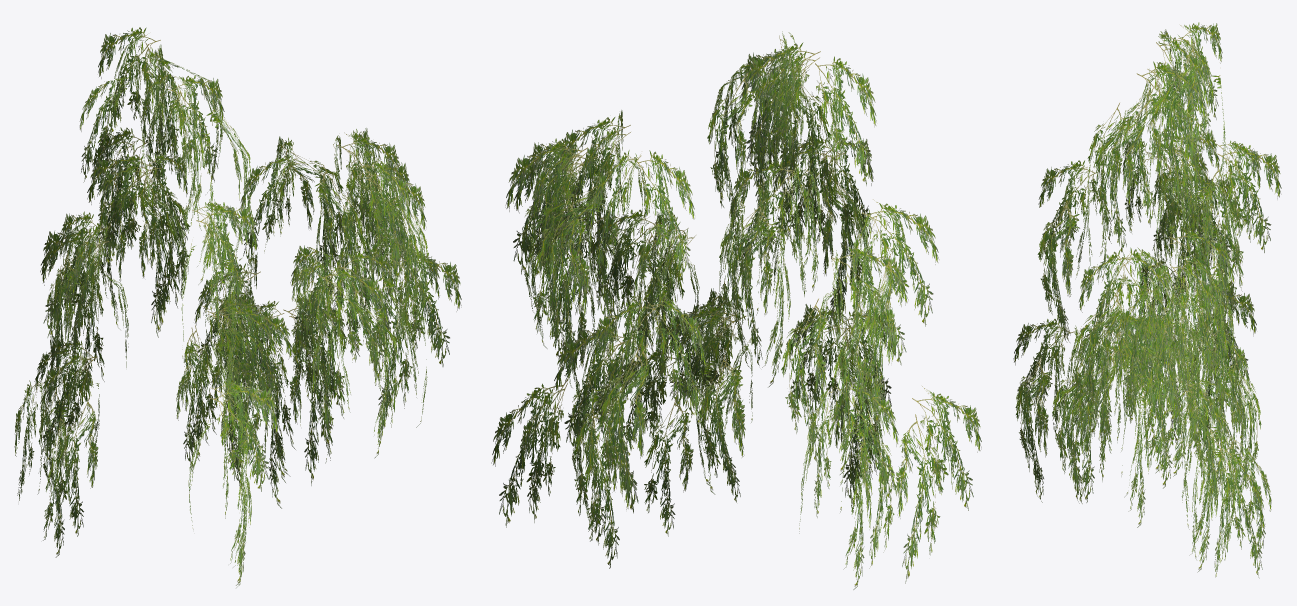
Rendered from willow leaves.fbx.
3 views of the same model, side by side, from view 1: azimuth 30°, elevation 25°; view 2: azimuth 150°, elevation 25°; view 3: azimuth 270°, elevation 25° (orthographic). The views are drawn at different scales.
Visible parts, largest first — view 1: branch09_1; view 2: branch09_1; view 3: branch09_1.
Boxes of the visible parts, x1,y1,x2,y2 form: branch09_1: (14,27,461,587); branch09_1: (491,31,981,589); branch09_1: (1013,22,1281,578).
Size of the model in its own units: 837 by 1019 by 495.
1 material, 1 textured.
